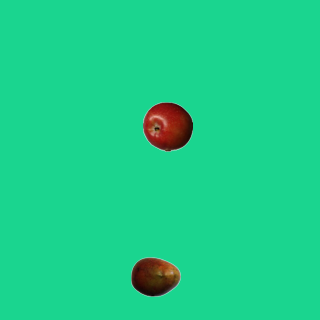Apple Braeburn: (142, 101, 192, 151)
Mango Red: (130, 251, 180, 301)
